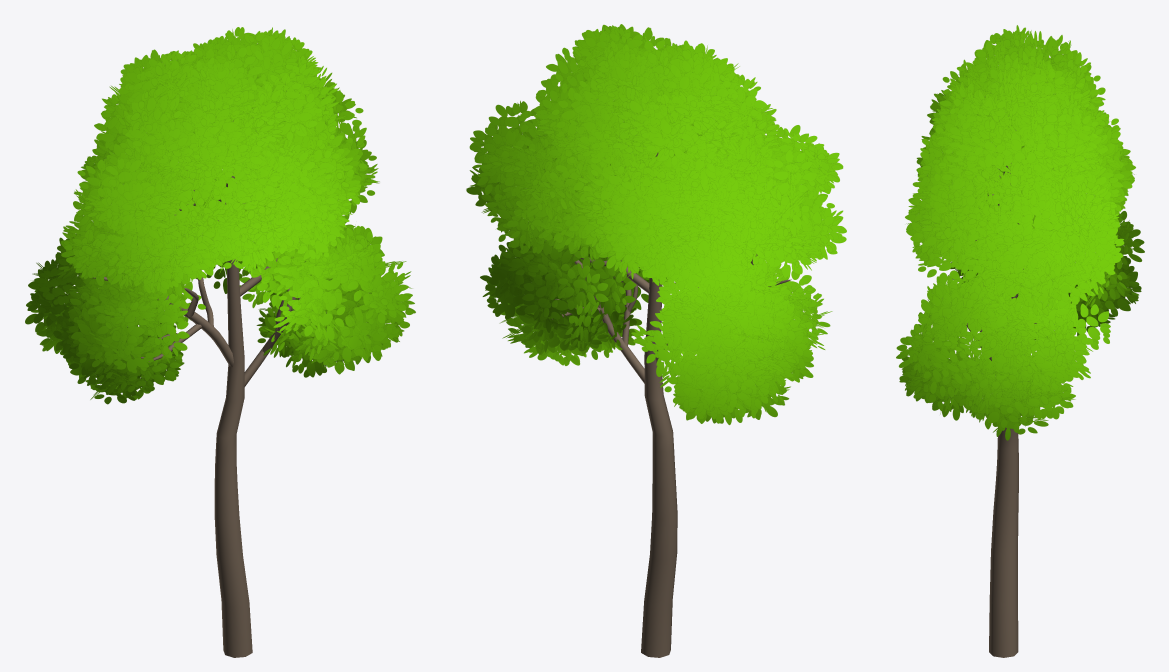
The model's file is normaltree-1.glb.
3 renders of one model, left to right at view 1: azimuth 30°, elevation 25°; view 2: azimuth 150°, elevation 25°; view 3: azimuth 270°, elevation 25°, orthographic. The views are drawn at different scales.
Visible parts, largest first — view 1: NormalTree_1; view 2: NormalTree_1; view 3: NormalTree_1.
Boxes of the visible parts, bbox=[...] form: NormalTree_1: bbox=[25, 27, 415, 657]; NormalTree_1: bbox=[466, 24, 846, 657]; NormalTree_1: bbox=[896, 25, 1144, 657].
Size of the model in its own units: 4.05 by 6.87 by 2.74.
2 materials, 1 textured.
